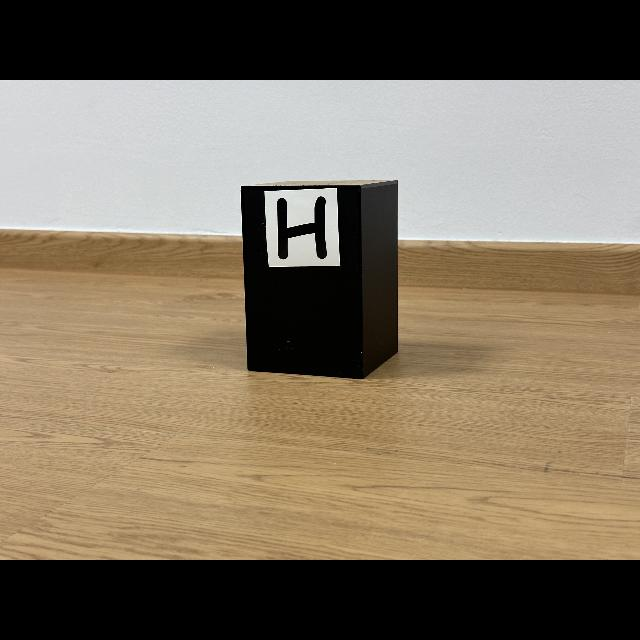H: (276, 196, 328, 259)
